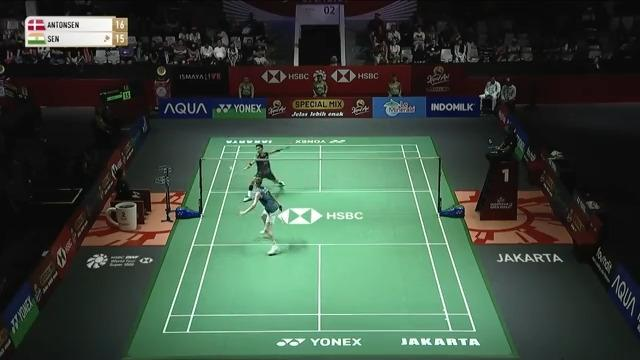Shuttlecock: (227, 162, 235, 172)
